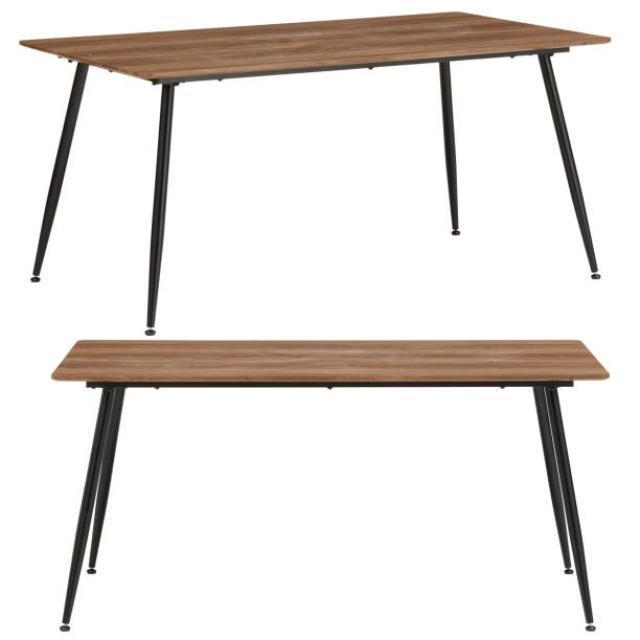table: (18, 9, 610, 334), (50, 336, 609, 634)
